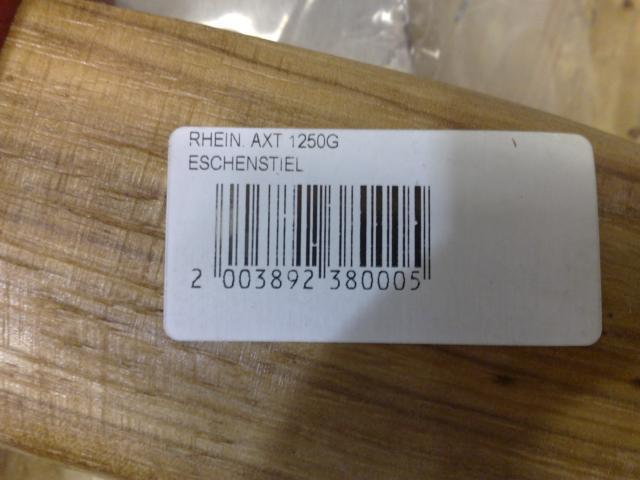Barkod: (210, 181, 433, 266)
